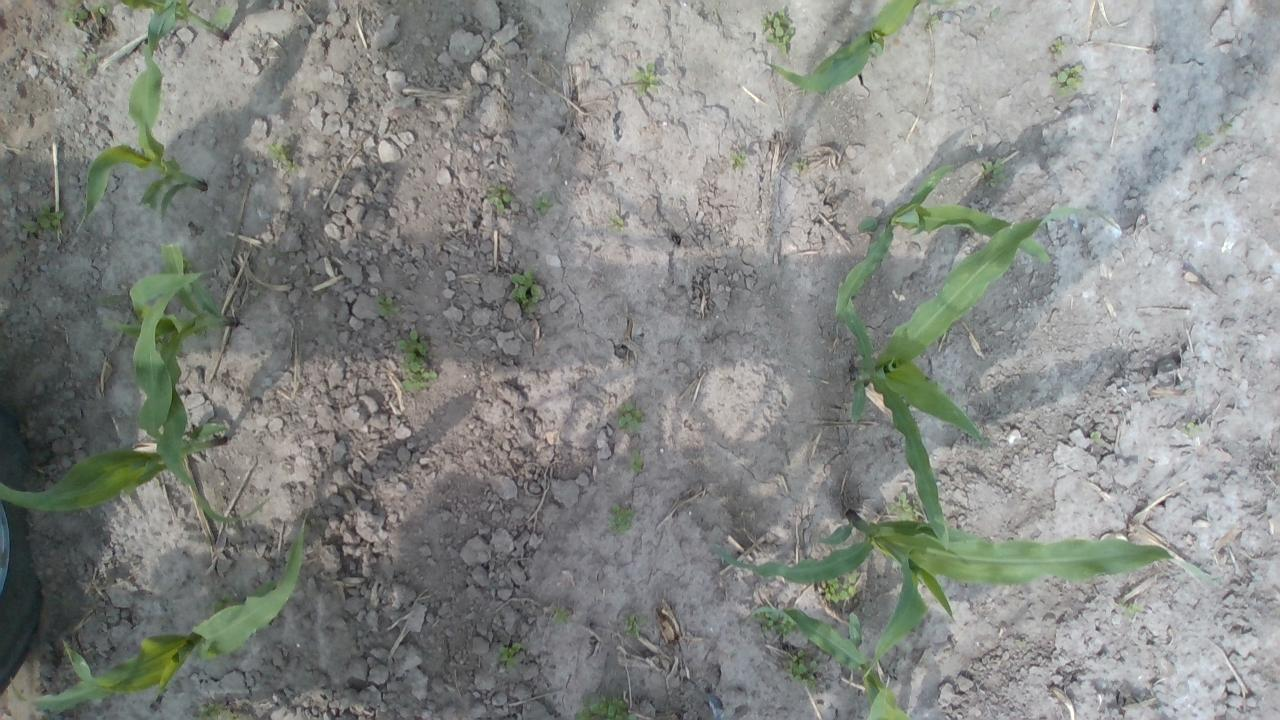Maize: (834, 204, 1122, 552), (706, 509, 1220, 680), (7, 508, 306, 712), (98, 242, 272, 523), (0, 353, 229, 517), (830, 164, 1054, 321), (748, 548, 931, 718), (74, 64, 210, 233), (763, 0, 924, 97), (126, 0, 232, 63)
Weeds: (398, 330, 434, 391), (18, 205, 62, 236), (508, 271, 540, 312), (762, 12, 792, 52), (824, 572, 859, 605), (756, 610, 798, 637), (66, 6, 112, 30), (582, 696, 628, 719), (1054, 64, 1085, 93), (791, 655, 818, 684), (609, 504, 635, 532), (632, 66, 658, 93), (265, 146, 292, 172), (982, 160, 1008, 183), (621, 401, 639, 430), (500, 645, 522, 665), (376, 296, 394, 316), (492, 190, 509, 209), (1192, 136, 1212, 151), (624, 616, 638, 636), (1125, 600, 1140, 618), (1054, 38, 1066, 55), (734, 151, 746, 168), (610, 218, 624, 232), (539, 197, 549, 214), (632, 457, 642, 474), (552, 610, 564, 623)
